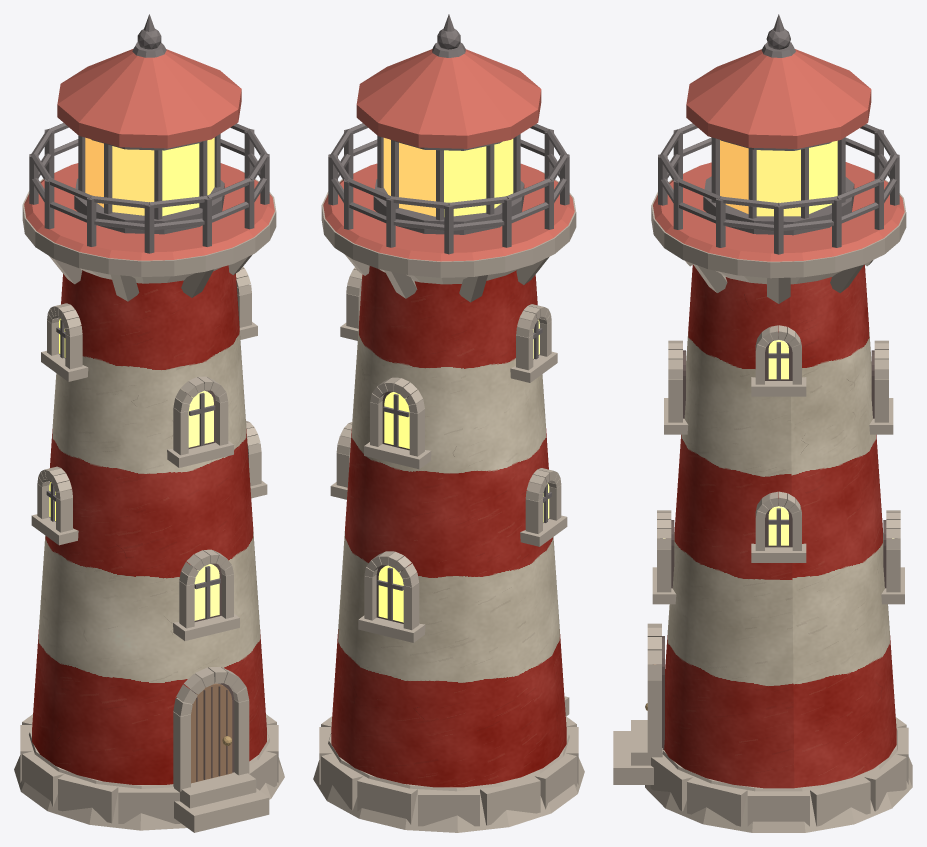
File: faro-solo.glb
3 renders of one model, left to right at view 1: azimuth 30°, elevation 25°; view 2: azimuth 150°, elevation 25°; view 3: azimuth 270°, elevation 25°, orthographic.
Visible parts, largest first — view 1: Tower - painted stripes, Stone - sandstone, Roof - vermilion, Iron - graphite, Glass - warm honey, Wood - oak, Light - amber, Recess - shadow; view 2: Tower - painted stripes, Stone - sandstone, Roof - vermilion, Iron - graphite, Glass - warm honey, Light - amber; view 3: Tower - painted stripes, Stone - sandstone, Roof - vermilion, Iron - graphite, Glass - warm honey, Recess - shadow, Light - amber.
Boxes of the visible parts, bbox=[...] form: Tower - painted stripes: bbox=[32, 265, 266, 784]; Stone - sandstone: bbox=[14, 167, 284, 832]; Roof - vermilion: bbox=[24, 48, 274, 260]; Iron - graphite: bbox=[29, 14, 269, 619]; Glass - warm honey: bbox=[85, 137, 214, 216]; Wood - oak: bbox=[191, 683, 232, 783]; Light - amber: bbox=[49, 318, 219, 620]; Recess - shadow: bbox=[49, 318, 234, 781]; Tower - painted stripes: bbox=[331, 266, 566, 787]; Stone - sandstone: bbox=[313, 167, 584, 832]; Roof - vermilion: bbox=[323, 49, 574, 261]; Iron - graphite: bbox=[328, 14, 569, 620]; Glass - warm honey: bbox=[383, 138, 513, 216]; Light - amber: bbox=[378, 319, 549, 622]; Tower - painted stripes: bbox=[664, 265, 896, 788]; Stone - sandstone: bbox=[613, 168, 912, 832]; Roof - vermilion: bbox=[653, 49, 904, 261]; Iron - graphite: bbox=[658, 14, 899, 546]; Glass - warm honey: bbox=[720, 140, 837, 216]; Recess - shadow: bbox=[653, 333, 891, 749]; Light - amber: bbox=[663, 340, 893, 545].
Bounding box in the file's own units: 0.4614 × 1.45 × 0.516.
9 materials, 1 textured.
